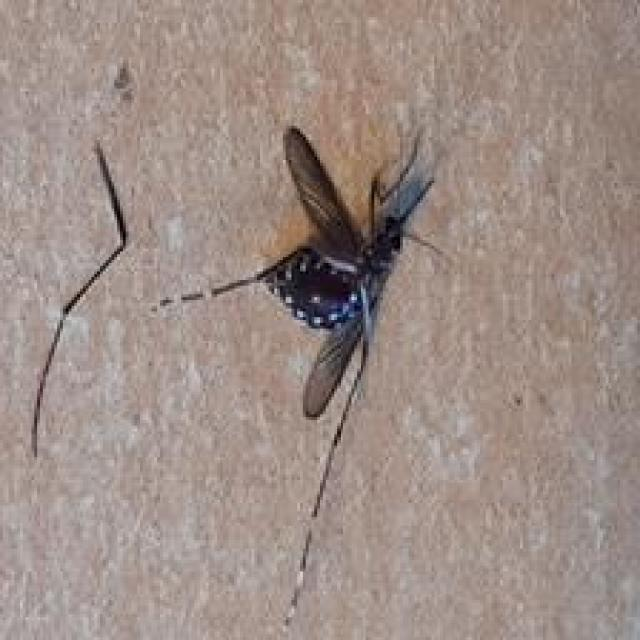Aedes albopictus: (30, 123, 450, 637)
